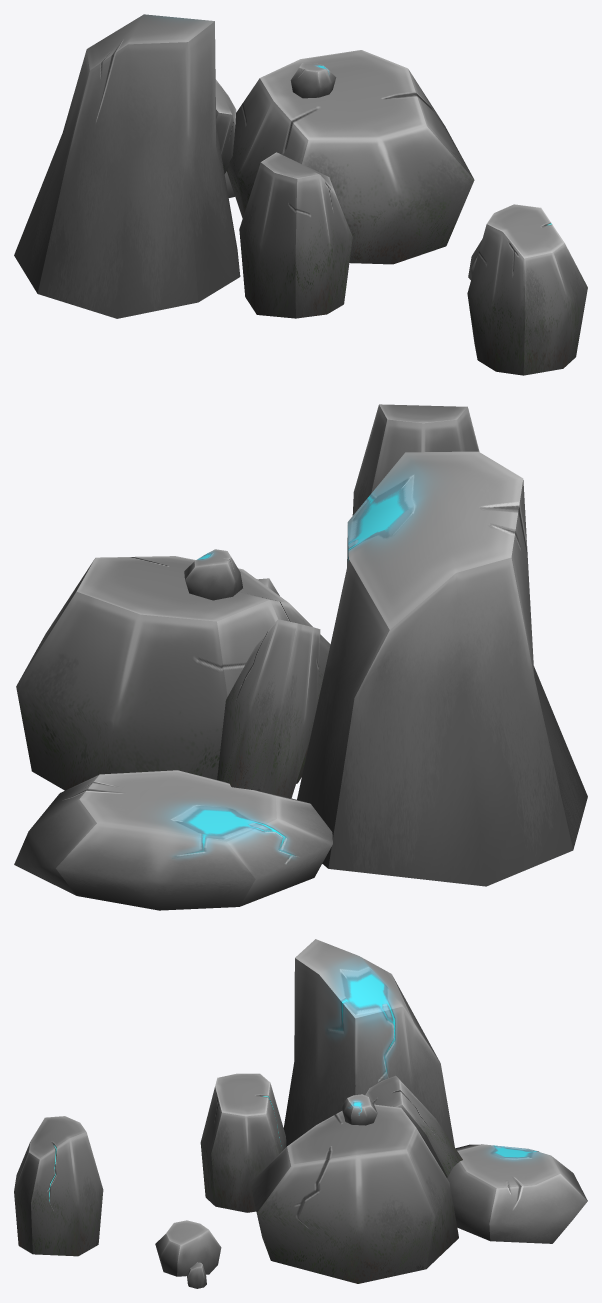
Rendered from rocks.glb.
3 views of the same model, one above another, from view 1: azimuth 30°, elevation 25°; view 2: azimuth 150°, elevation 25°; view 3: azimuth 270°, elevation 25° (orthographic). The views are drawn at different scales.
Visible parts, largest first — view 1: Box002, Box001, Box003, Box005, Box007, Box004; view 2: Box002, Box001, Box006, Box007, Box003, Box004; view 3: Box001, Box002, Box006, Box003, Box005, Box007, Box009, Box004.
Boxes of the visible parts, x1=… form: Box002: x1=14, y1=14, x2=240, y2=318; Box001: x1=227, y1=50, x2=474, y2=264; Box003: x1=467, y1=204, x2=587, y2=375; Box005: x1=239, y1=152, x2=352, y2=318; Box007: x1=215, y1=79, x2=236, y2=173; Box004: x1=290, y1=63, x2=336, y2=98; Box002: x1=297, y1=451, x2=587, y2=886; Box001: x1=16, y1=556, x2=330, y2=790; Box006: x1=14, y1=770, x2=332, y2=910; Box007: x1=217, y1=619, x2=320, y2=798; Box003: x1=352, y1=404, x2=479, y2=515; Box004: x1=184, y1=549, x2=242, y2=600; Box001: x1=250, y1=1104, x2=458, y2=1283; Box002: x1=283, y1=939, x2=454, y2=1146; Box006: x1=447, y1=1144, x2=587, y2=1243; Box003: x1=14, y1=1116, x2=103, y2=1256; Box005: x1=200, y1=1073, x2=286, y2=1212; Box007: x1=365, y1=1075, x2=462, y2=1177; Box009: x1=155, y1=1220, x2=221, y2=1276; Box004: x1=341, y1=1094, x2=377, y2=1125.
Bounding box in the file's own units: 65.69 × 37.25 × 94.02.
Materials: 4 (4 with a texture image).
